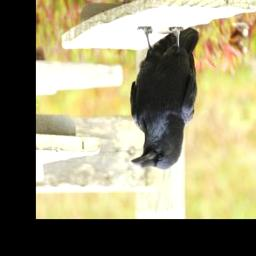Crow: (128, 26, 199, 171)
